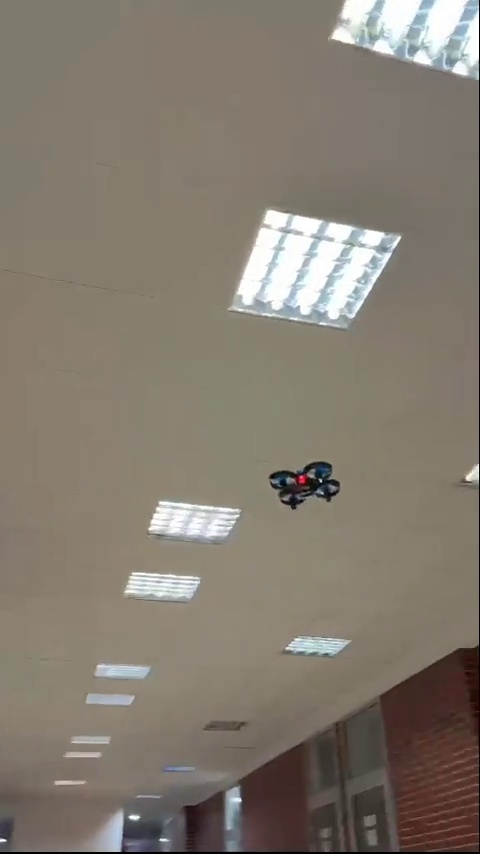drone: (265, 463, 345, 512)
